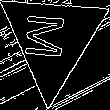M_E: (28, 14, 77, 65)
